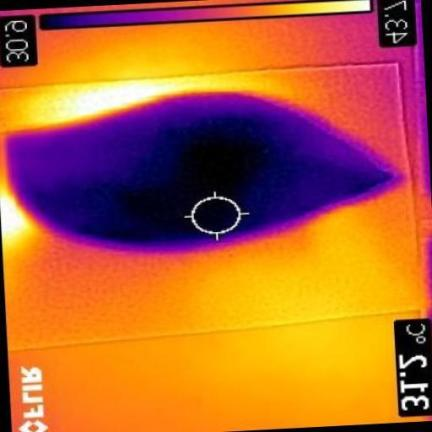mango: (7, 95, 396, 250)
